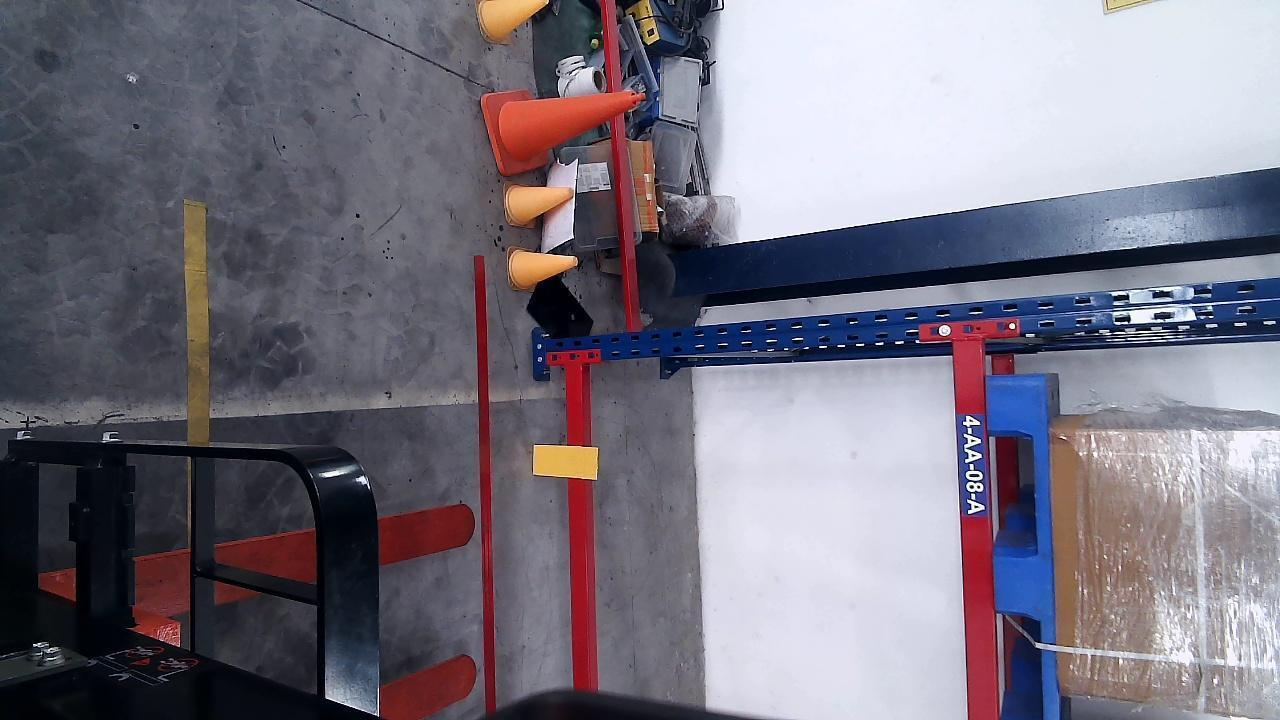red_line: (469, 251, 498, 711)
yellow_line: (183, 201, 210, 439)
